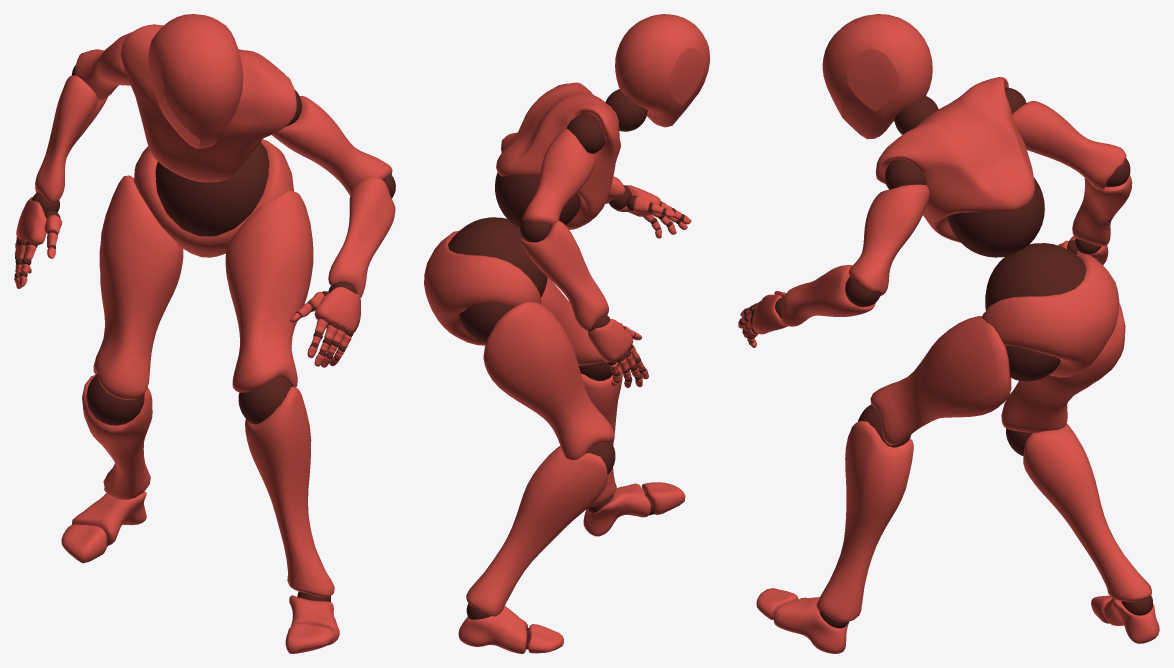
3 views of the same model, side by side, from view 1: azimuth 30°, elevation 25°; view 2: azimuth 150°, elevation 25°; view 3: azimuth 270°, elevation 25° (orthographic). The views are drawn at different scales.
Visible parts, largest first — view 1: Beta_Surface, Beta_Joints; view 2: Beta_Surface, Beta_Joints; view 3: Beta_Surface, Beta_Joints.
Part boxes in pixels (bbox=[...]): Beta_Surface: bbox=[14, 14, 395, 653]; Beta_Joints: bbox=[14, 65, 395, 602]; Beta_Surface: bbox=[424, 14, 709, 653]; Beta_Joints: bbox=[448, 89, 684, 649]; Beta_Surface: bbox=[738, 14, 1159, 653]; Beta_Joints: bbox=[739, 87, 1152, 628].
Bounding box in the file's own units: 0.6493 × 1.45 × 0.9325.
